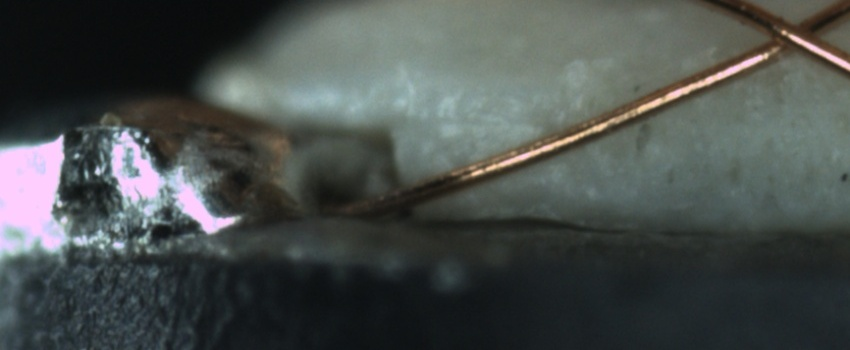CL: (737, 2, 842, 66)
DL: (431, 92, 580, 156)
